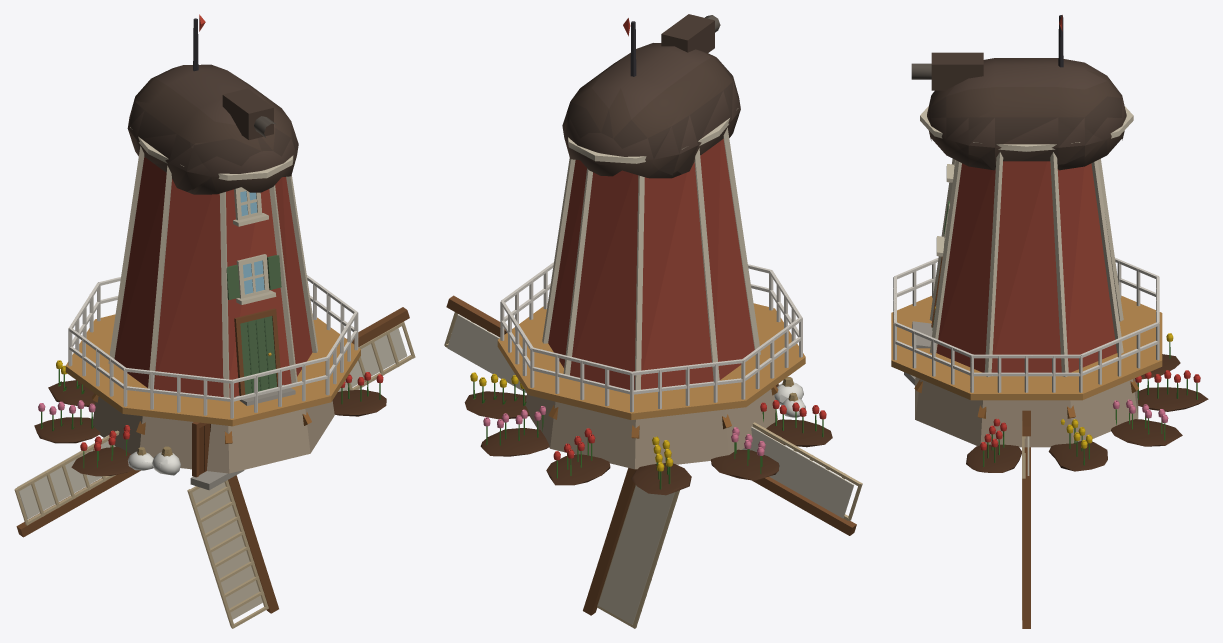
Rendered from grand_windmill.glb.
3 renders of one model, left to right at view 1: azimuth 30°, elevation 25°; view 2: azimuth 150°, elevation 25°; view 3: azimuth 270°, elevation 25°, orthographic. The views are drawn at different scales.
Parts seen in each view (by area): view 1: decor-grand_windmill-far, decor-grand_windmill, building-grand_windmill-sails; view 2: decor-grand_windmill-far, decor-grand_windmill, building-grand_windmill-sails; view 3: decor-grand_windmill-far, decor-grand_windmill, building-grand_windmill-sails.
Boxes of the visible parts, bbox=[...] form: decor-grand_windmill-far: bbox=[41, 20, 380, 490]; decor-grand_windmill: bbox=[34, 14, 386, 486]; building-grand_windmill-sails: bbox=[14, 307, 415, 628]; decor-grand_windmill-far: bbox=[473, 14, 824, 493]; decor-grand_windmill: bbox=[464, 15, 832, 495]; building-grand_windmill-sails: bbox=[444, 295, 862, 628]; decor-grand_windmill-far: bbox=[891, 52, 1197, 472]; decor-grand_windmill: bbox=[891, 15, 1208, 472]; building-grand_windmill-sails: bbox=[1022, 410, 1030, 628].
Size of the model in its own units: 7.9 by 11.39 by 5.52.
